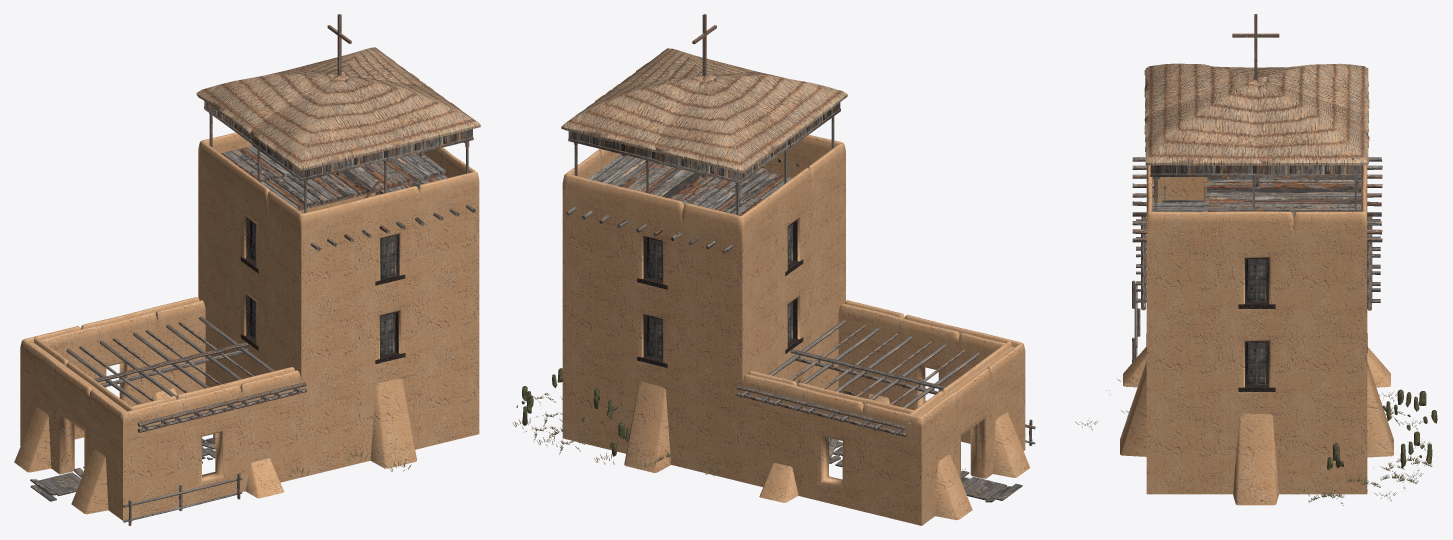
The model's file is House_06_M2.gltf.
The picture shows the model from 3 angles, left to right: view 1: azimuth 30°, elevation 25°; view 2: azimuth 150°, elevation 25°; view 3: azimuth 270°, elevation 25°; orthographic projection. The views are drawn at different scales.
Visible parts, largest first — view 1: RoofExtension_W3_v1, Wall_W6H3_T3, RoofExtension_W3_v1 (2), RoofExtension_W3_v1 (1), Wall_W3H3_T3 (21), Wall_W3H3_T3 (19), Wall_W3H3_T3 (18), Wall_W3H3_T3 (20), Wall_W3H3_T3 (22), Wall_W3H3_T3 (2), Wall_W3H3_T3 (12), Wall_W_W3H3_T3 (1) (+44 smaller); view 2: RoofExtension_W3_v1 (1), RoofExtension_W3_v1 (3), Wall_W6H3_T3 (2), RoofExtension_W3_v1, Wall_W3H3_T3 (30), Wall_W3H3_T3 (31), Wall_W3H3_T3 (32), Wall_W3H3_T3 (41), Wall_W3H3_T3 (33), Wall_W3H3_T3 (34), Wall_W_W3H3_T3 (12), Wall_W3H3_T3 (42) (+42 smaller); view 3: Wall_W6H3_T3 (1), RoofExtension_W3_v1 (3), RoofExtension_W3_v1 (2), Wall_W3H3_T3 (25), Wall_W3H3_T3 (26), Wall_W3H3_T3 (27), Wall_W3H3_T3 (29), Wall_W3H3_T3 (28), Roof_W6D6_v2, Roof_W6_v1 (6), Wall_W_W3H3_T3 (7), Wall_W_W3H3_T3 (6) (+12 smaller).
Boxes of the visible parts, <box> form: RoofExtension_W3_v1: <box>250,74,394,181</box>; Wall_W6H3_T3: <box>301,371,419,477</box>; RoofExtension_W3_v1 (2): <box>331,74,480,160</box>; RoofExtension_W3_v1 (1): <box>196,70,346,143</box>; Wall_W3H3_T3 (21): <box>420,279,479,370</box>; Wall_W3H3_T3 (19): <box>420,356,479,448</box>; Wall_W3H3_T3 (18): <box>301,308,360,399</box>; Wall_W3H3_T3 (20): <box>301,230,360,322</box>; Wall_W3H3_T3 (22): <box>420,201,479,293</box>; Wall_W3H3_T3 (2): <box>123,429,182,520</box>; Wall_W3H3_T3 (12): <box>242,400,301,491</box>; Wall_W_W3H3_T3 (1): <box>182,414,241,506</box>; RoofExtension_W3_v1 (1): <box>654,73,797,183</box>; RoofExtension_W3_v1 (3): <box>561,75,712,161</box>; Wall_W6H3_T3 (2): <box>562,360,682,467</box>; RoofExtension_W3_v1: <box>696,71,847,147</box>; Wall_W3H3_T3 (30): <box>562,282,622,374</box>; Wall_W3H3_T3 (31): <box>682,389,742,481</box>; Wall_W3H3_T3 (32): <box>682,311,742,403</box>; Wall_W3H3_T3 (41): <box>862,433,921,525</box>; Wall_W3H3_T3 (33): <box>682,233,742,325</box>; Wall_W3H3_T3 (34): <box>562,203,622,296</box>; Wall_W_W3H3_T3 (12): <box>802,418,861,511</box>; Wall_W3H3_T3 (42): <box>742,404,801,496</box>; Wall_W6H3_T3 (1): <box>1146,411,1293,494</box>; RoofExtension_W3_v1 (3): <box>1250,77,1369,177</box>; RoofExtension_W3_v1 (2): <box>1144,77,1262,176</box>; Wall_W3H3_T3 (25): <box>1146,244,1220,327</box>; Wall_W3H3_T3 (26): <box>1293,244,1367,327</box>; Wall_W3H3_T3 (27): <box>1293,327,1367,410</box>; Wall_W3H3_T3 (29): <box>1146,327,1220,410</box>; Wall_W3H3_T3 (28): <box>1293,411,1367,494</box>; Roof_W6D6_v2: <box>1206,177,1361,219</box>; Roof_W6_v1 (6): <box>1146,211,1293,244</box>; Wall_W_W3H3_T3 (7): <box>1220,327,1293,410</box>; Wall_W_W3H3_T3 (6): <box>1220,244,1293,327</box>.
Bounding box in the file's own units: 22.93 × 19.54 × 15.3.
2 materials, 2 textured.
